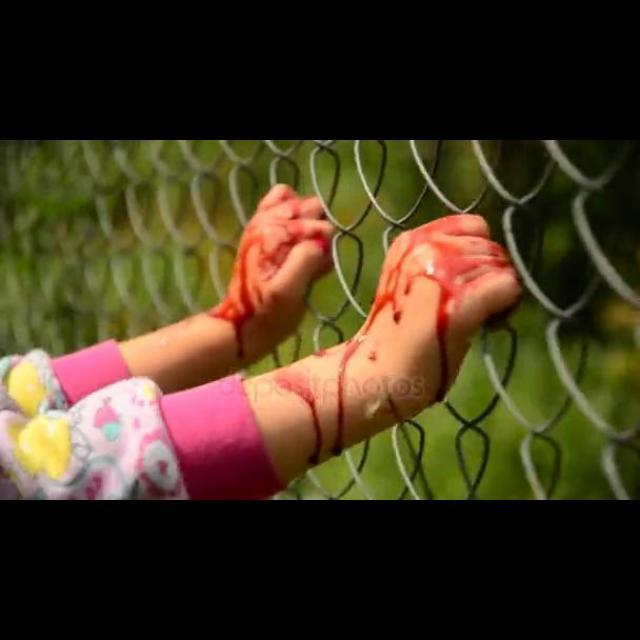blood: (331, 217, 516, 456), (209, 184, 332, 357), (276, 367, 324, 466)
